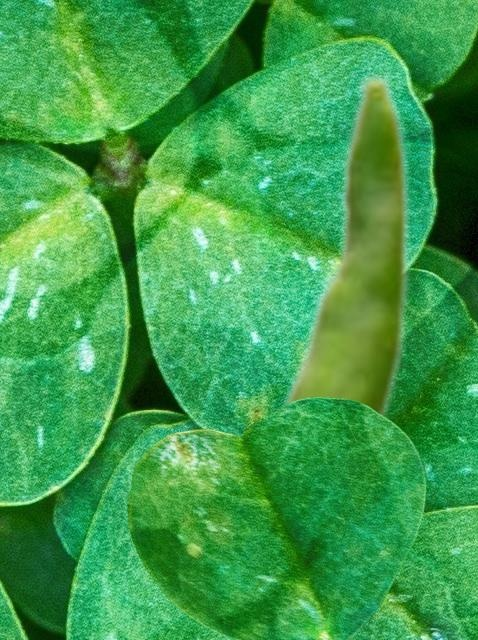green_chili: (274, 70, 412, 419)
